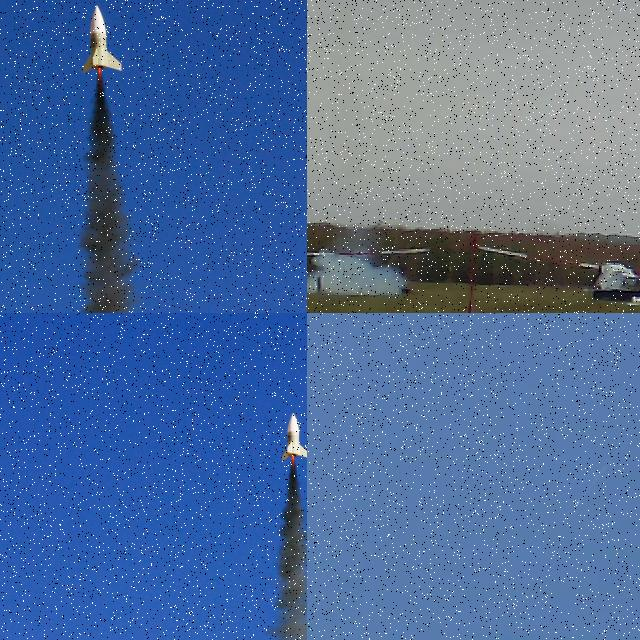Rocket: (82, 4, 122, 74), (281, 412, 307, 461), (577, 503, 578, 506)
